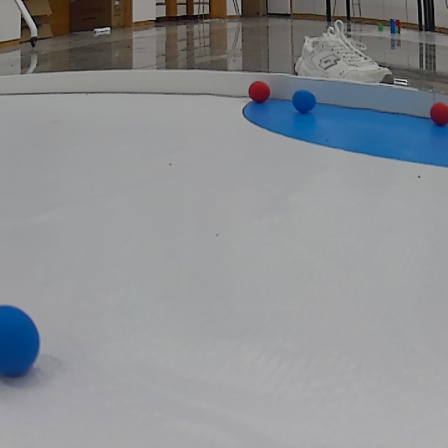blue: (0, 303, 40, 377), (291, 85, 317, 116)
blue_base: (240, 95, 448, 174)
red: (248, 82, 273, 103), (429, 102, 448, 124)
